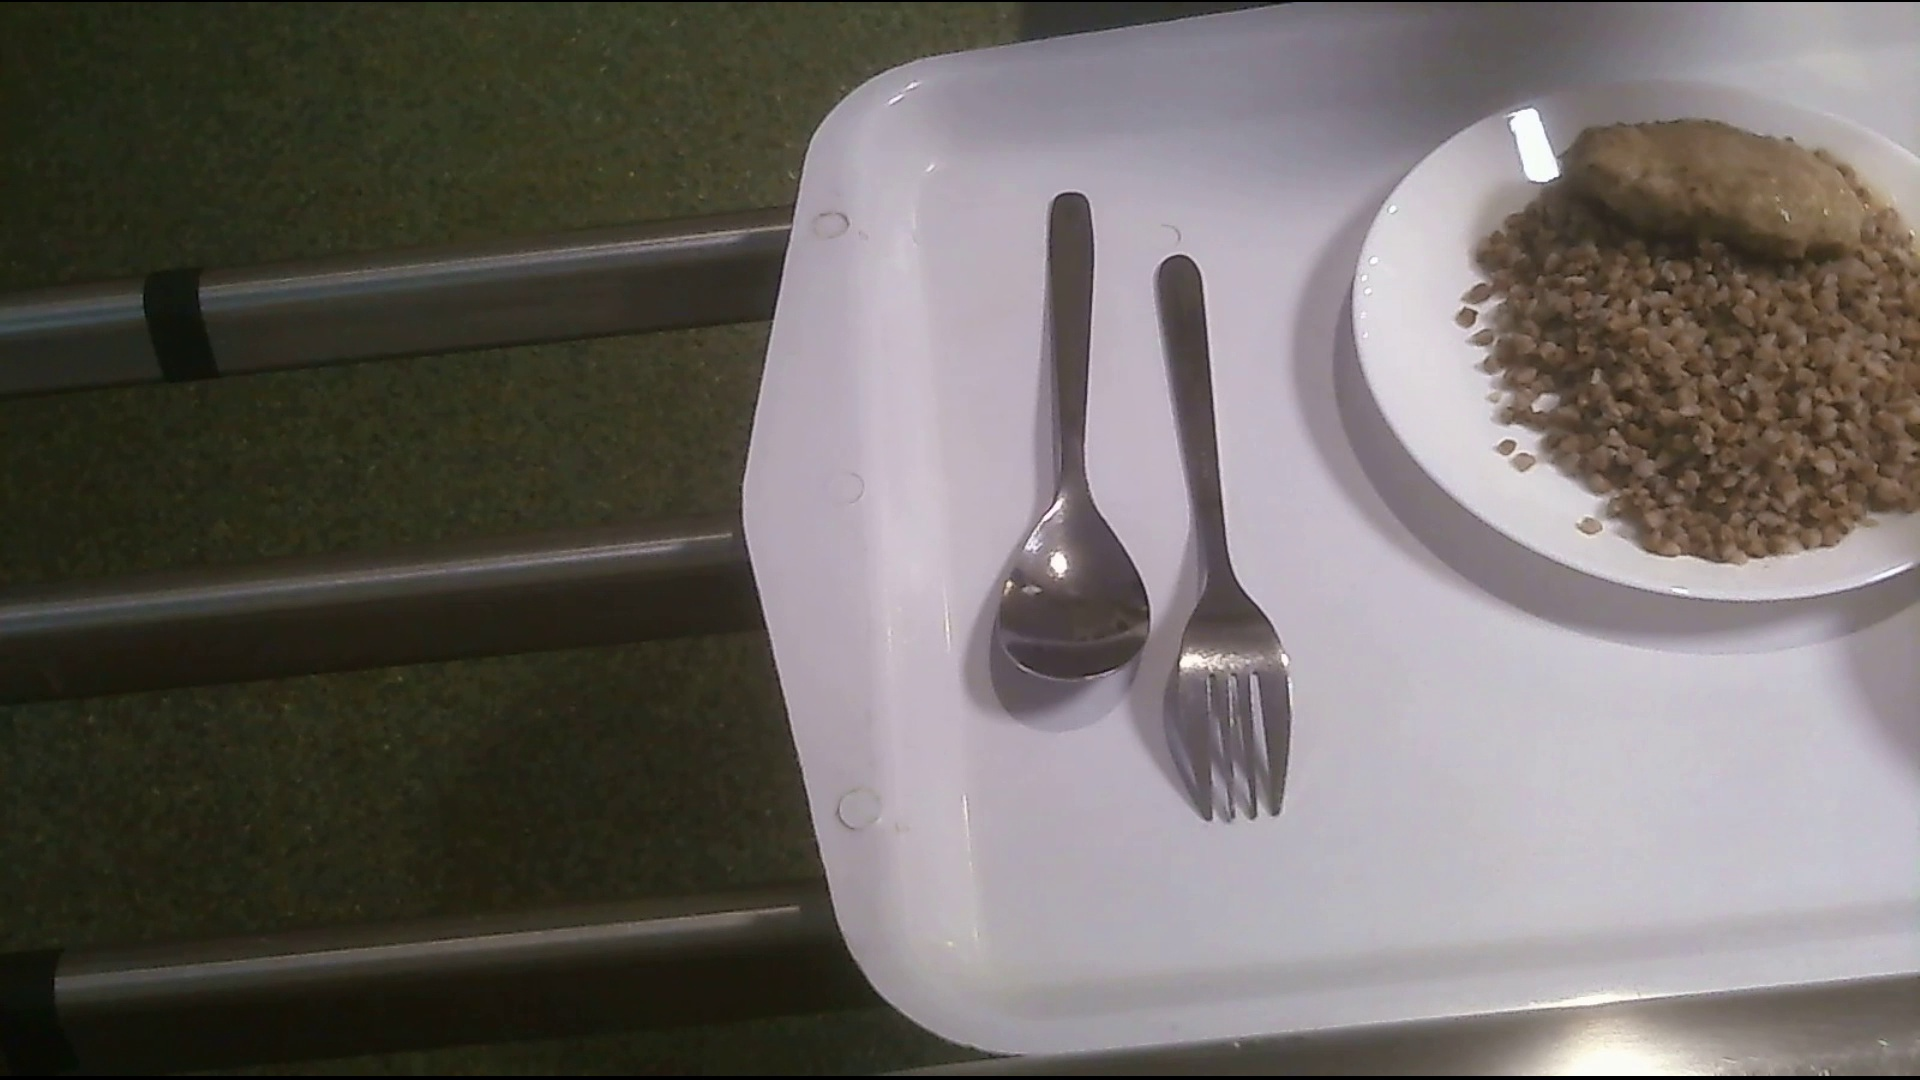cutlery: (984, 181, 1154, 684), (1150, 256, 1294, 820)
plate: (1349, 92, 1920, 593)
